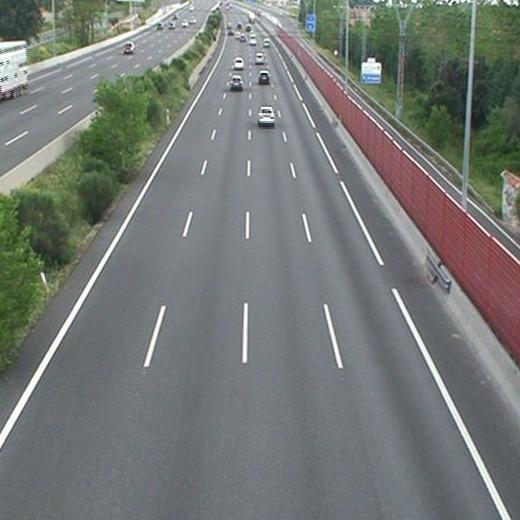car: (258, 107, 276, 124), (230, 76, 244, 87), (258, 71, 270, 83), (233, 58, 245, 69), (255, 53, 265, 63)
